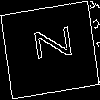Z: (25, 25, 72, 63)
